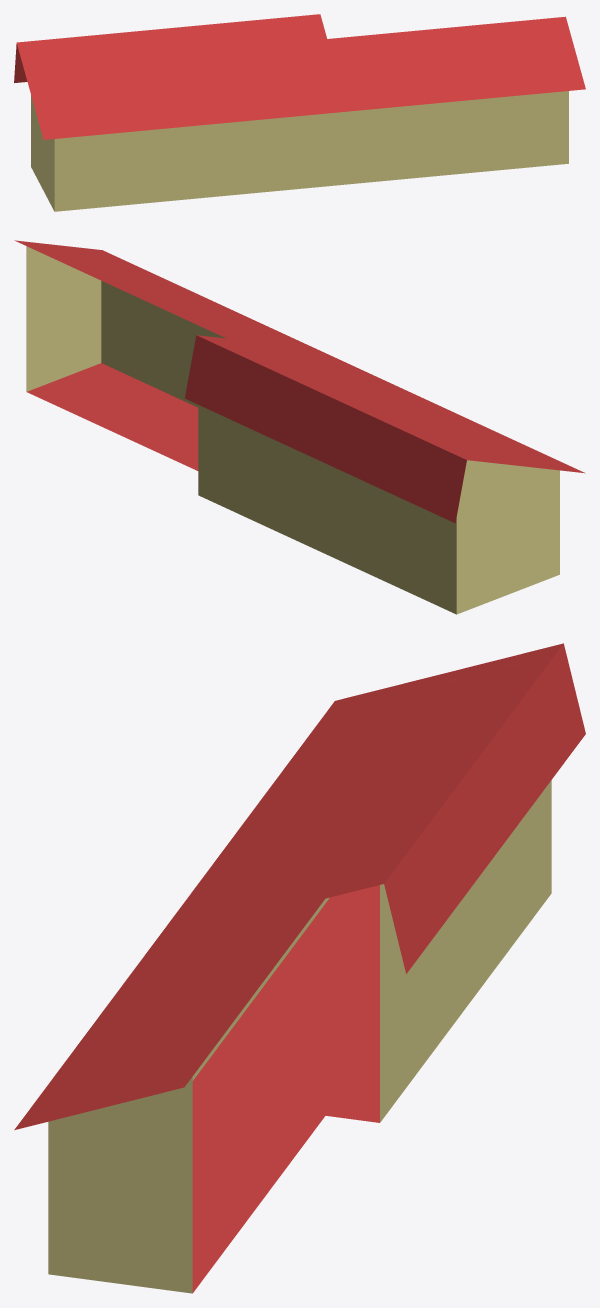
3 renders of one model, top to bottom at view 1: azimuth 30°, elevation 25°; view 2: azimuth 150°, elevation 25°; view 3: azimuth 270°, elevation 25°, orthographic. The views are drawn at different scales.
Bounding box in the file's own units: 29.23 × 15.62 × 7.22.
